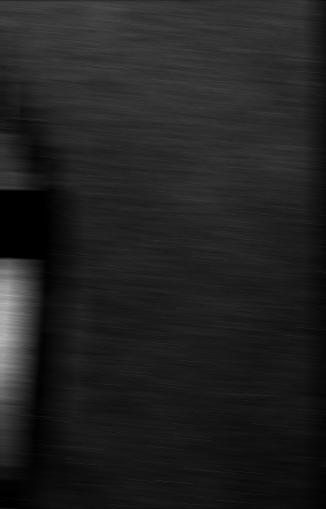Airbag: (0, 1, 326, 509)
